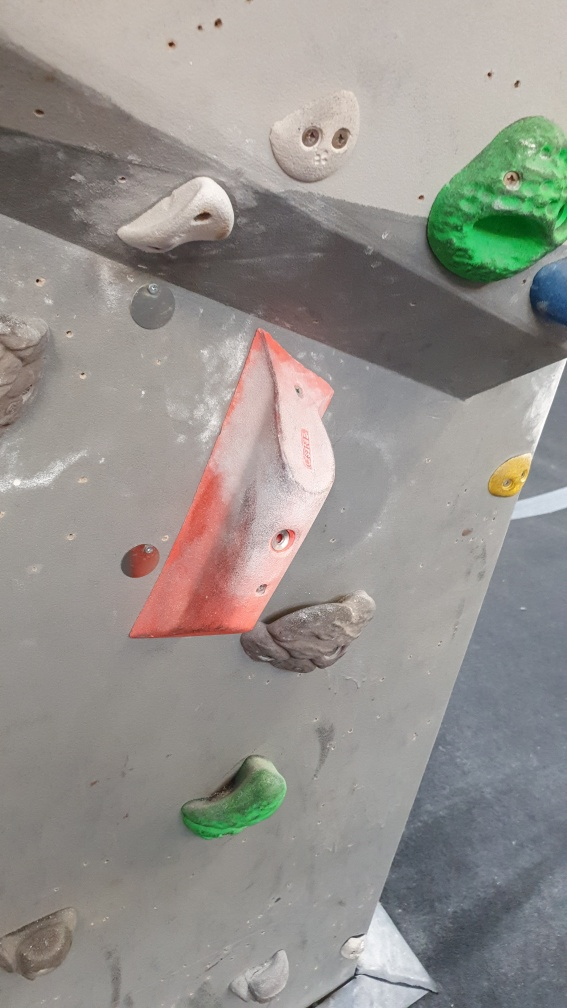Hand Start: (128, 282, 177, 333), (119, 542, 162, 579)
Jug: (237, 584, 377, 672), (178, 752, 291, 841)
Pinch: (124, 325, 337, 642)
Pocket: (422, 114, 567, 292)
